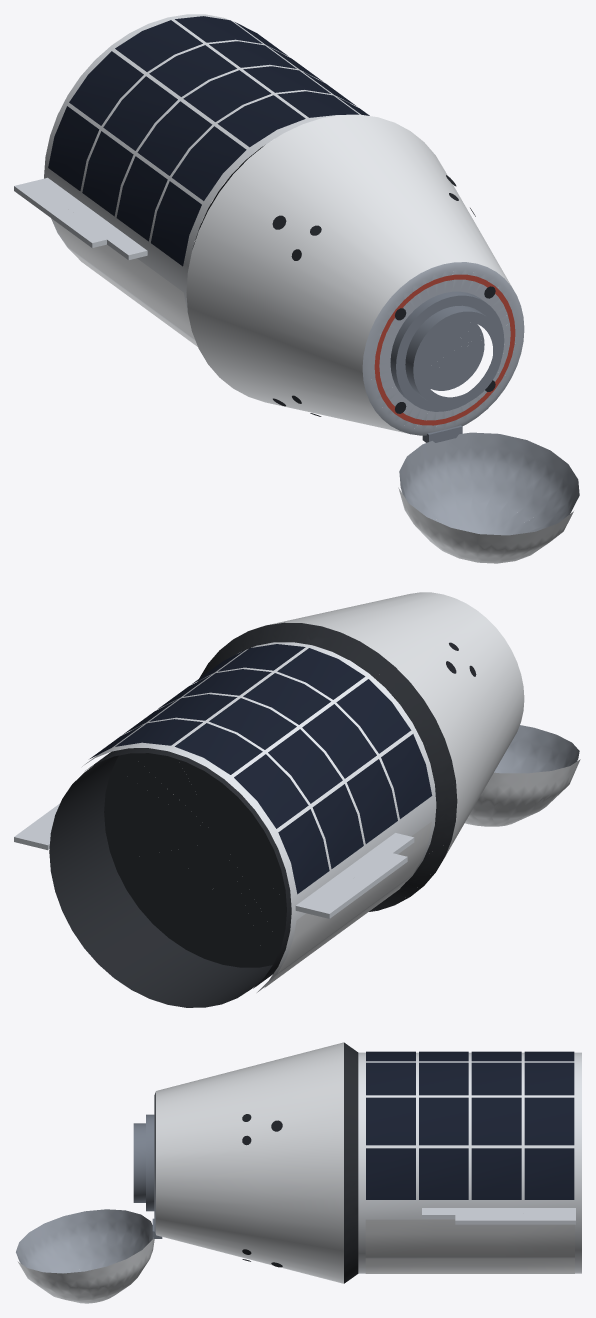
The model's file is dragon-cargo.glb.
The picture shows the model from 3 angles, top to bottom: view 1: azimuth 30°, elevation 25°; view 2: azimuth 150°, elevation 25°; view 3: azimuth 270°, elevation 25°; orthographic projection. The views are drawn at different scales.
Visible parts, largest first — view 1: body, solar-panel; view 2: body, solar-panel; view 3: body, solar-panel.
Boxes of the visible parts, x1,y1,x2,y2 form: body: (14, 14, 579, 563); solar-panel: (48, 16, 369, 266); body: (14, 592, 580, 1007); solar-panel: (90, 644, 432, 894); body: (16, 1042, 581, 1303); solar-panel: (366, 1051, 574, 1199).
Size of the model in its own units: 4.66 by 4.46 by 9.4.
